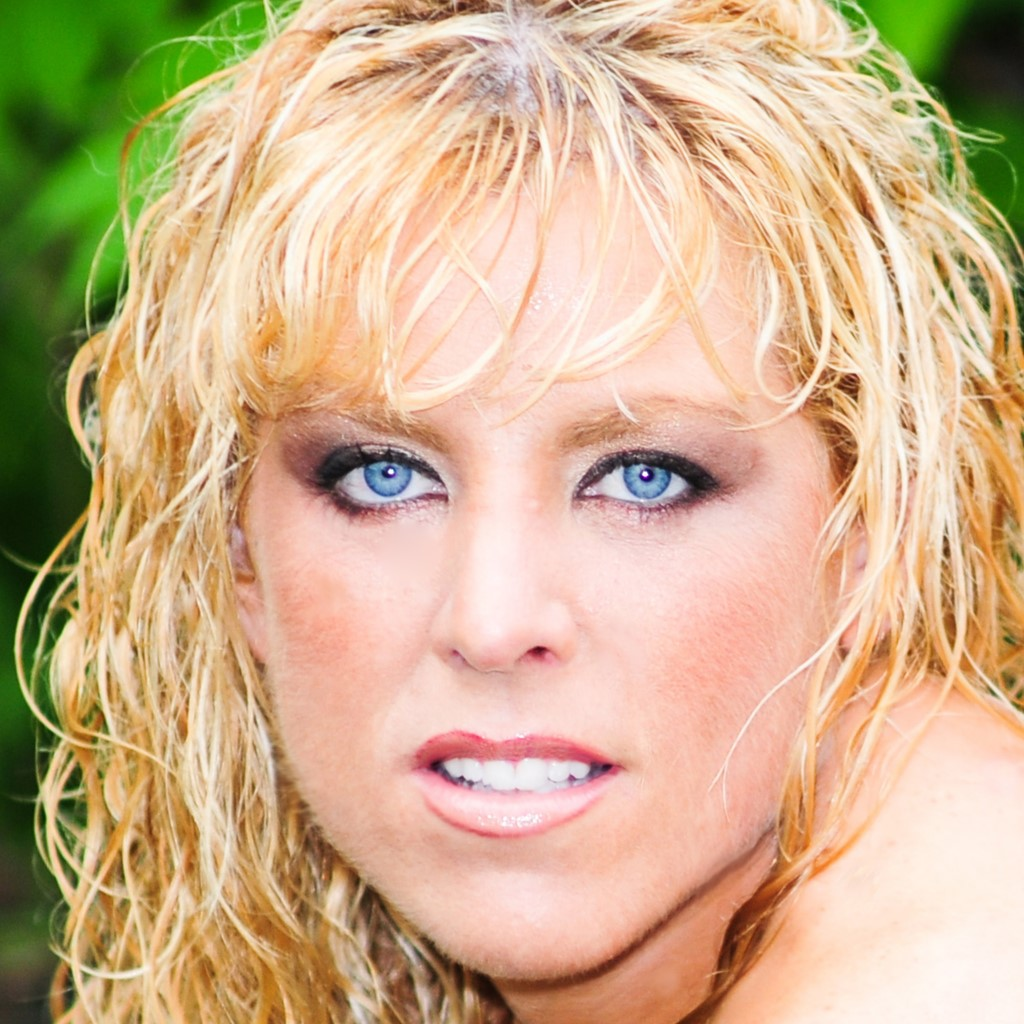sin_mascara: (251, 123, 836, 948)
